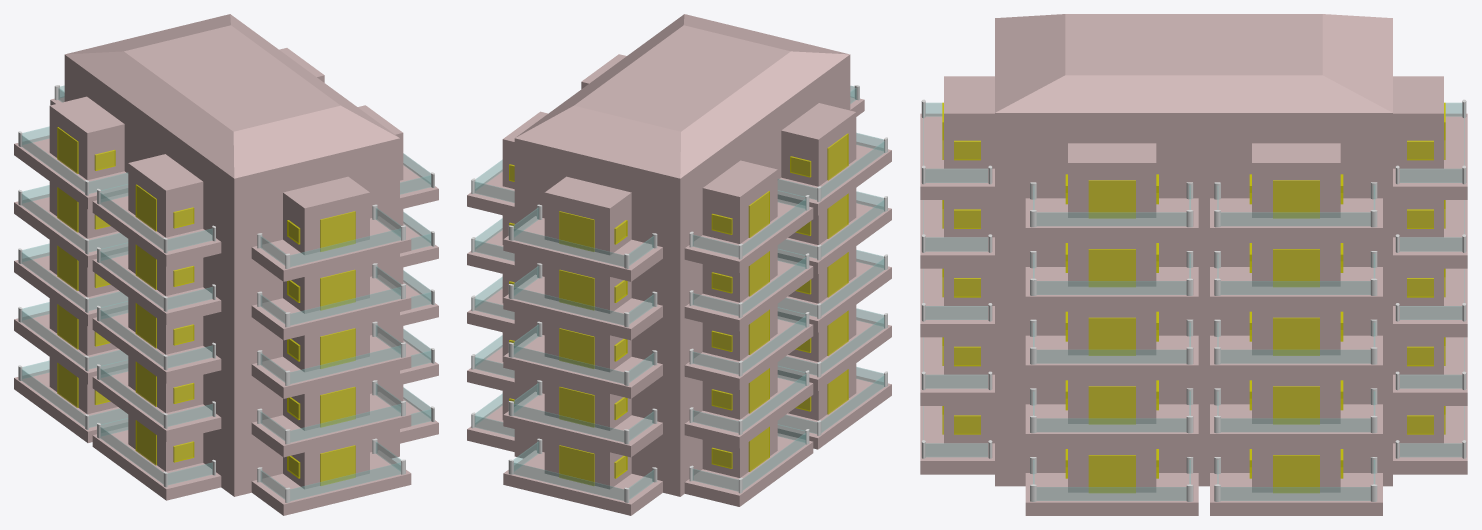
Rendered from Apartment.fbx.
The picture shows the model from 3 angles, left to right: view 1: azimuth 30°, elevation 25°; view 2: azimuth 150°, elevation 25°; view 3: azimuth 270°, elevation 25°; orthographic projection. The views are drawn at different scales.
Parts seen in each view (by area): view 1: pCylinder20; view 2: pCylinder20; view 3: pCylinder20.
Part boxes in pixels (left/top/right/bottom): pCylinder20: left=14, top=14, right=438, bottom=515; pCylinder20: left=467, top=14, right=891, bottom=515; pCylinder20: left=920, top=14, right=1467, bottom=515.
Bounding box in the file's own units: 34.3 × 40.43 × 50.89.
